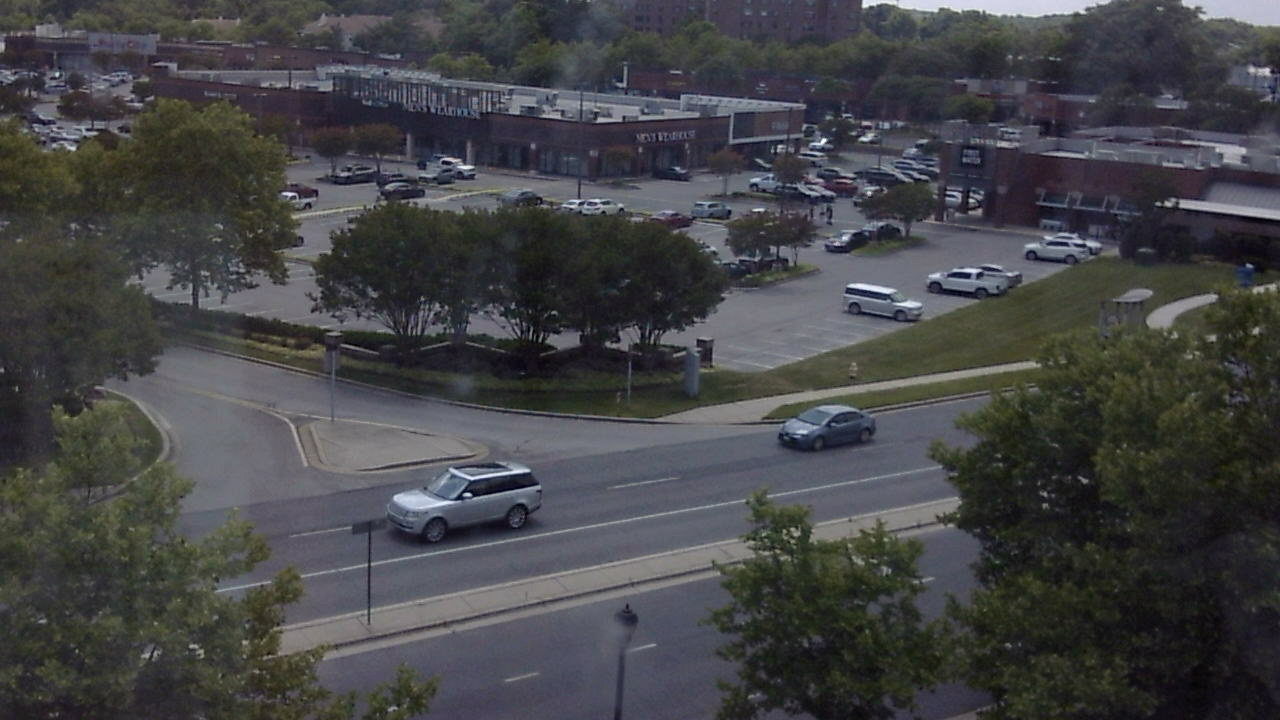Car: (390, 459, 554, 553), (780, 403, 886, 464)
